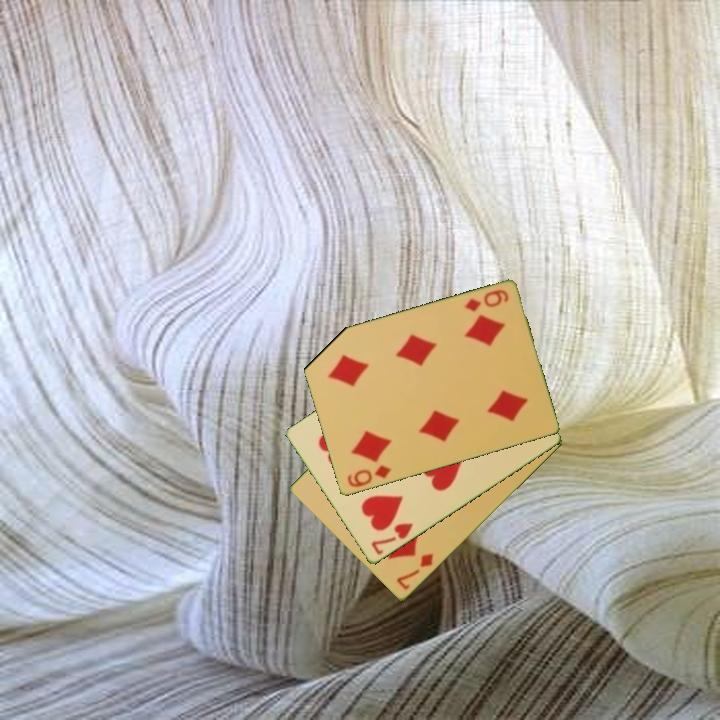6d: (461, 286, 511, 315), (344, 462, 394, 490)
7d: (393, 550, 437, 593)
7h: (367, 520, 416, 558)
